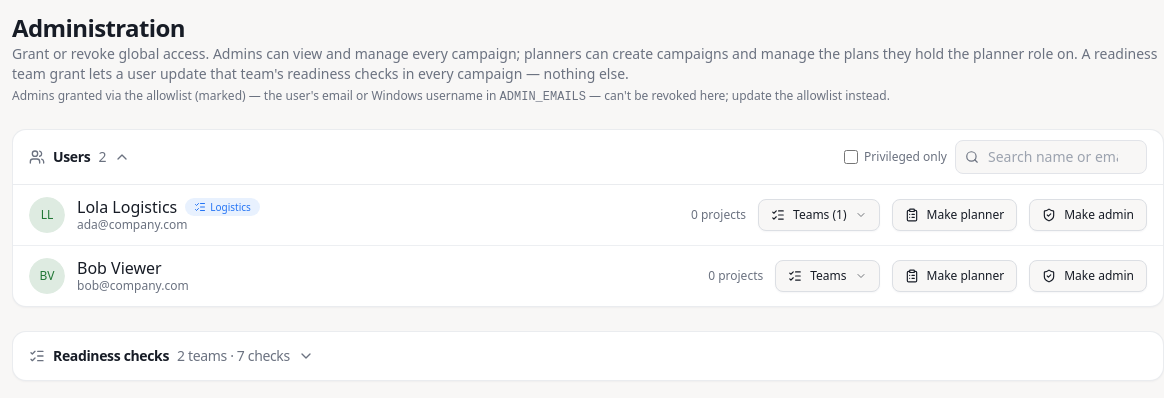
Test: Admin › counts readiness team-grant holders as privileged
The image size is (1164, 398).
Check: the text "Lola Logistics" is shown, box [77,197,177,217]
Click the checkbox labelled "Privileged only".
click(851, 157)  # box [844,150,858,164]
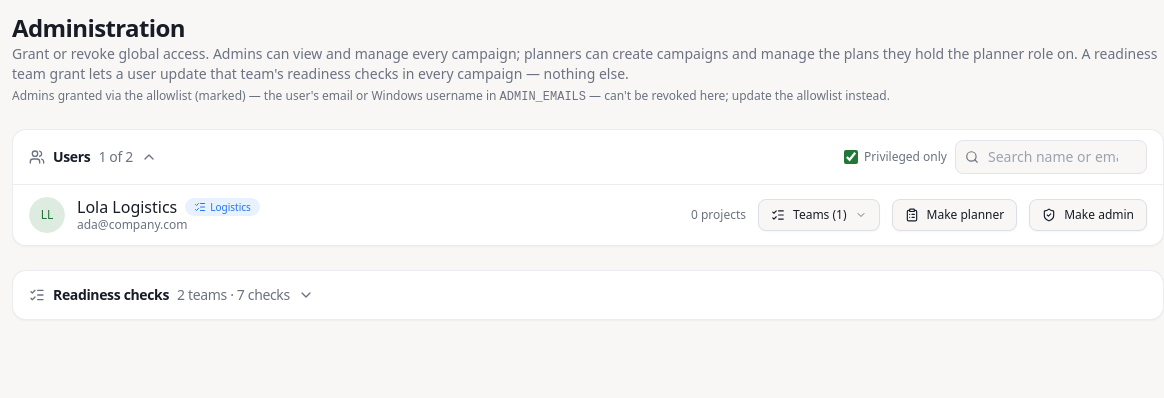
Check: the text "Lola Logistics" is shown, box [77,197,177,217]
Check: the text "Bob Viewer" is gone
